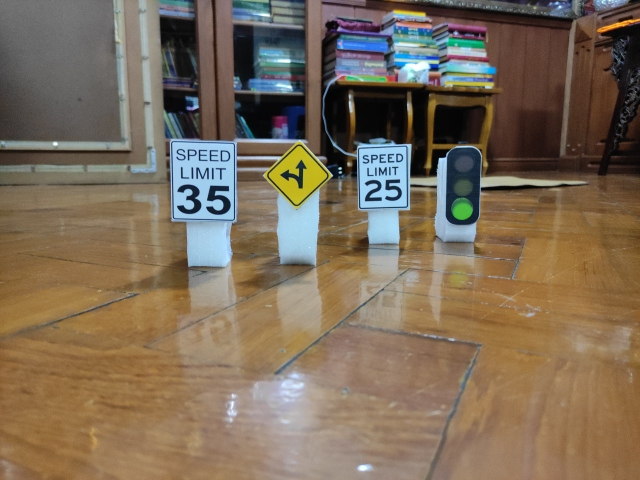Green Traffic Light: (446, 146, 482, 226)
Speed Limit 25: (357, 145, 410, 208)
Speed Limit 35: (169, 138, 236, 222)
Straight Or Left Sign: (263, 143, 332, 208)
